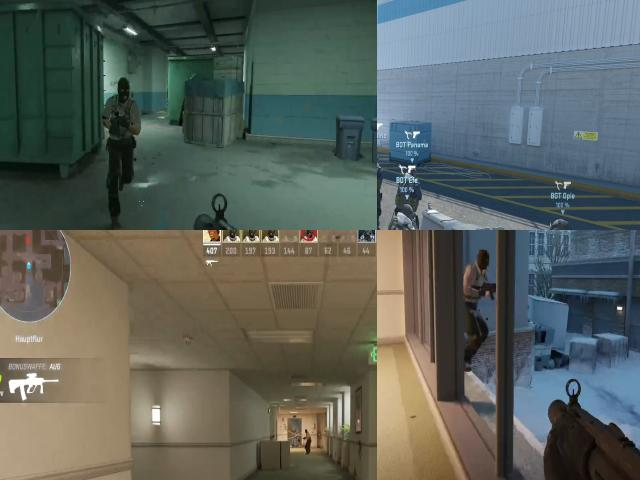CT: (385, 202, 419, 230), (398, 166, 419, 202), (377, 151, 384, 230)
CT-Head: (397, 205, 413, 225), (546, 219, 571, 230), (407, 167, 417, 177), (377, 155, 379, 166)
T: (102, 82, 151, 150), (452, 258, 493, 333), (302, 426, 314, 454)
T-Head: (112, 74, 136, 106), (474, 250, 492, 272), (304, 426, 310, 438)
